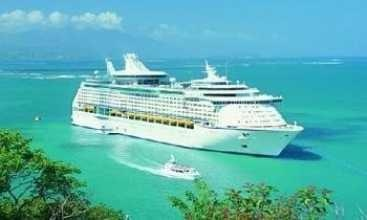otherboat: (165, 155, 202, 180)
youlun: (67, 49, 310, 155)
